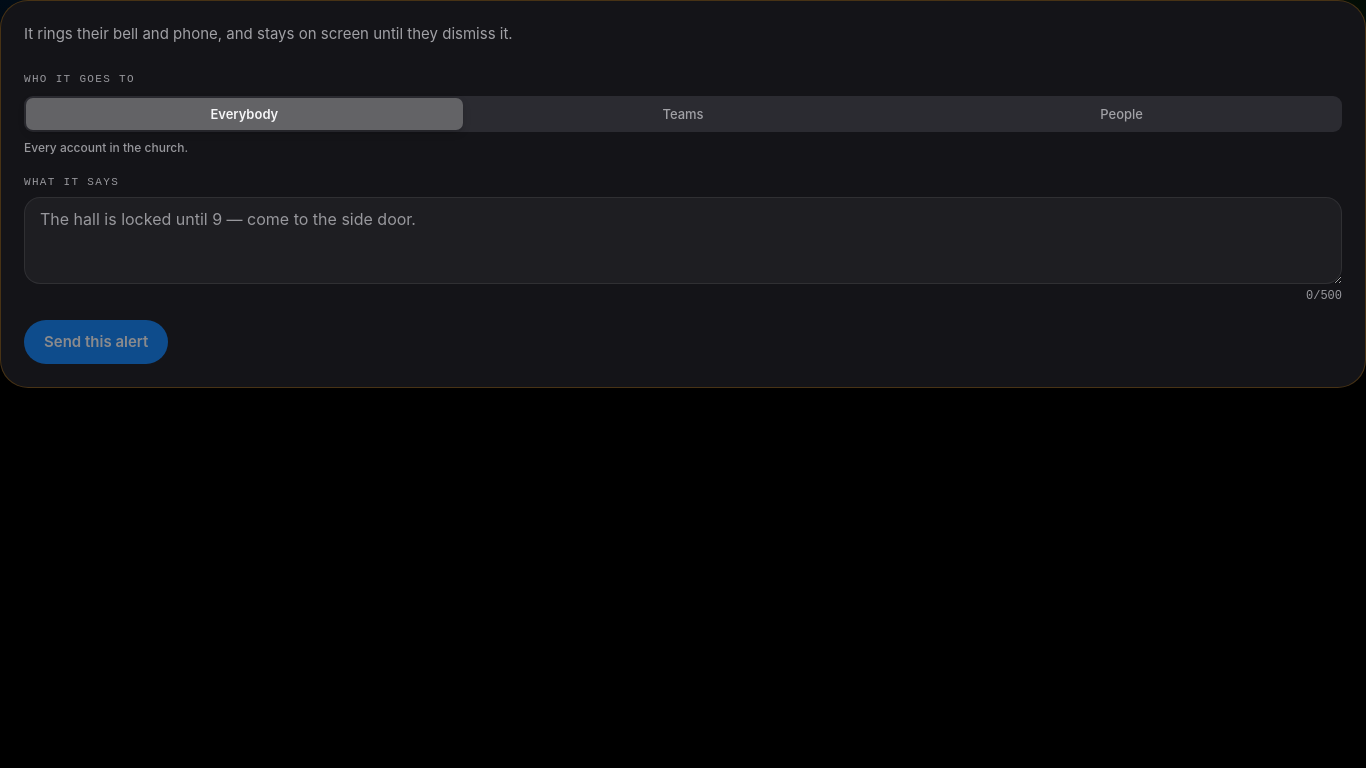
Test case: SendAlertCard › narrows the list of names as you type, so a big church is still usable
Click the button "People" at (1122, 114), box [903, 98, 1340, 130]
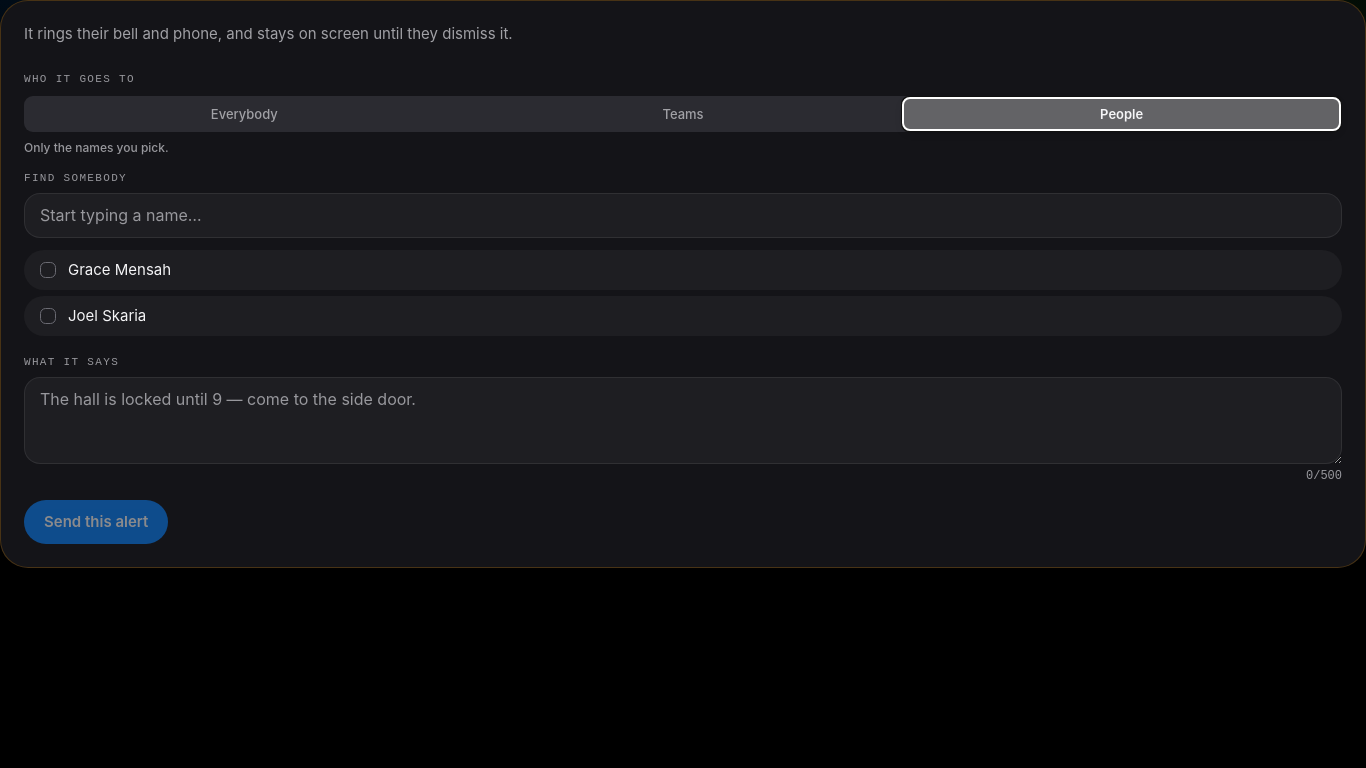
Expected: the checkbox labelled "Grace Mensah" is shown, [40, 262, 56, 278]
Type "joel" into the field labelled "Find somebody" at (683, 216), box [24, 193, 1342, 238]
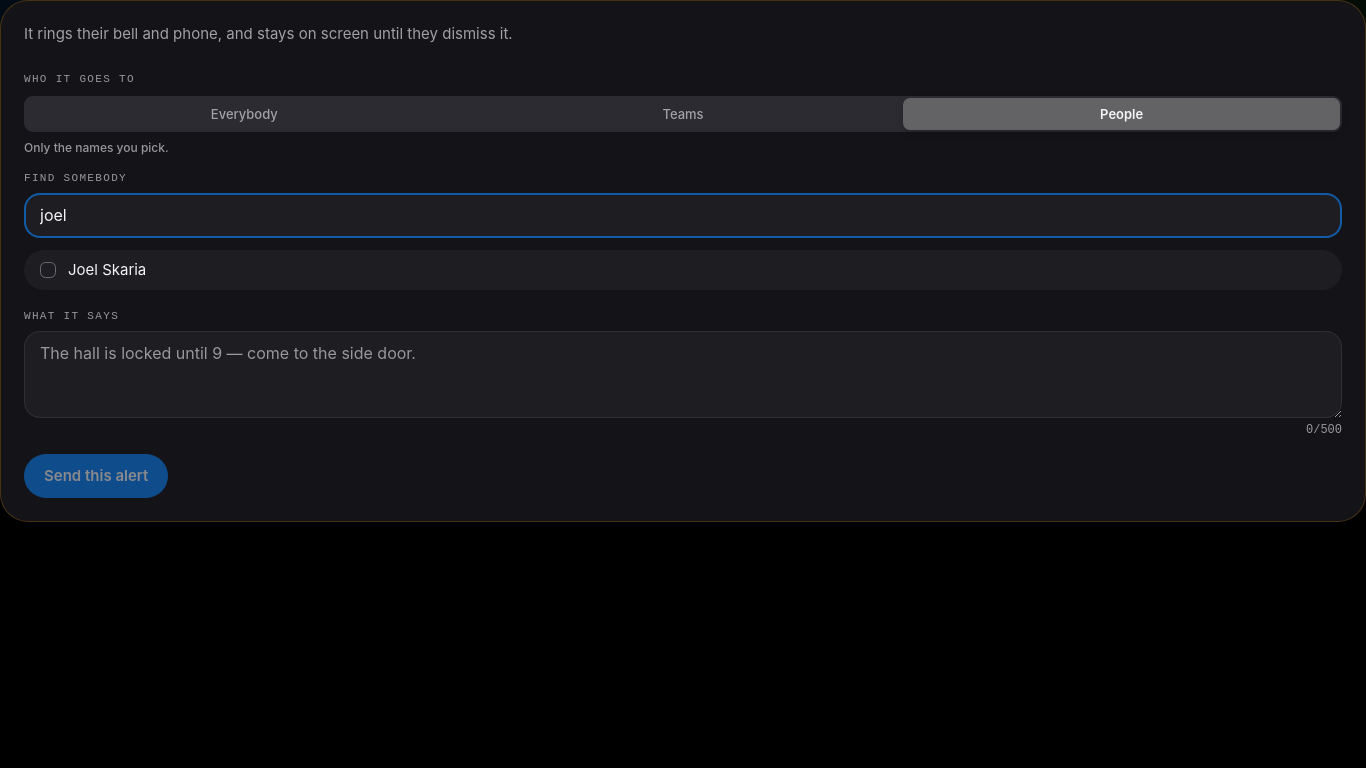
Expected: the checkbox labelled "Joel Skaria" is shown, [40, 262, 56, 278]
Expected: the text "Grace Mensah" is gone
